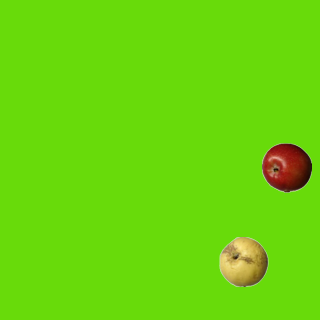Apple Braeburn: (261, 142, 311, 192)
Apple Golden 1: (218, 236, 268, 286)
